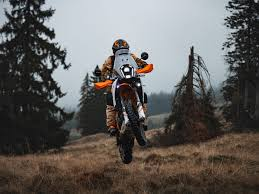motorcycle: (90, 51, 157, 165)
